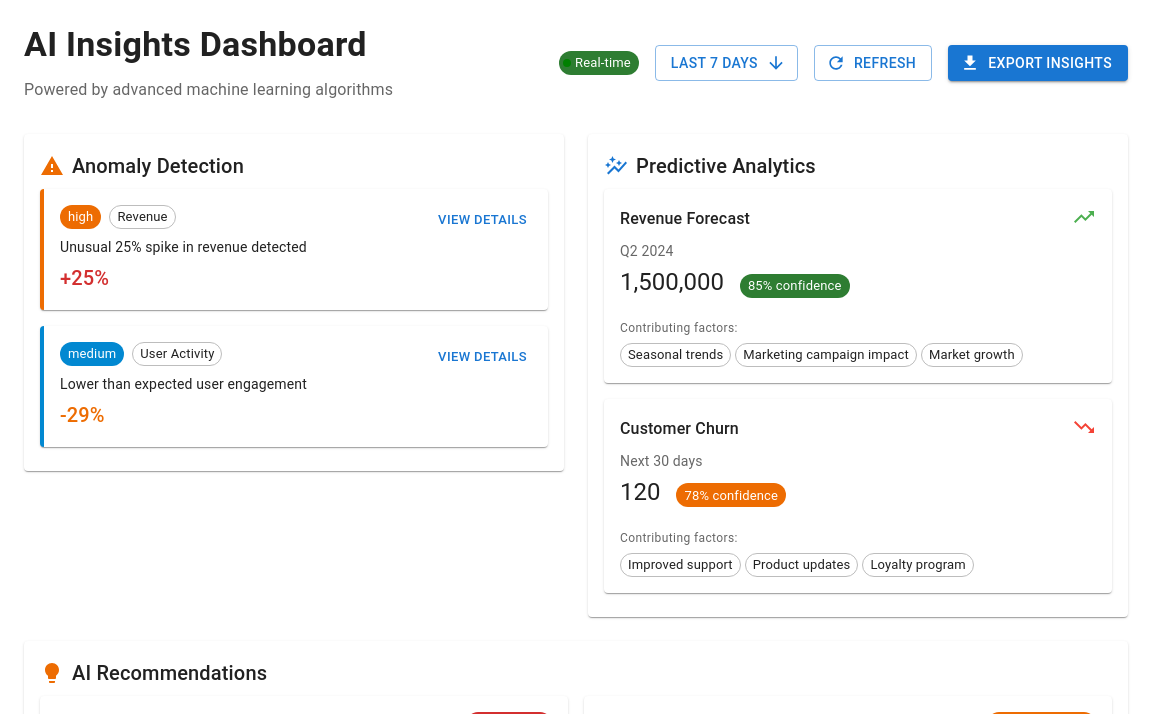
AIInsights Component › User Interactions › opens anomaly details when "View Details" is clicked
Click the 1st button "View Details" at (483, 220), box [433,205,532,236]
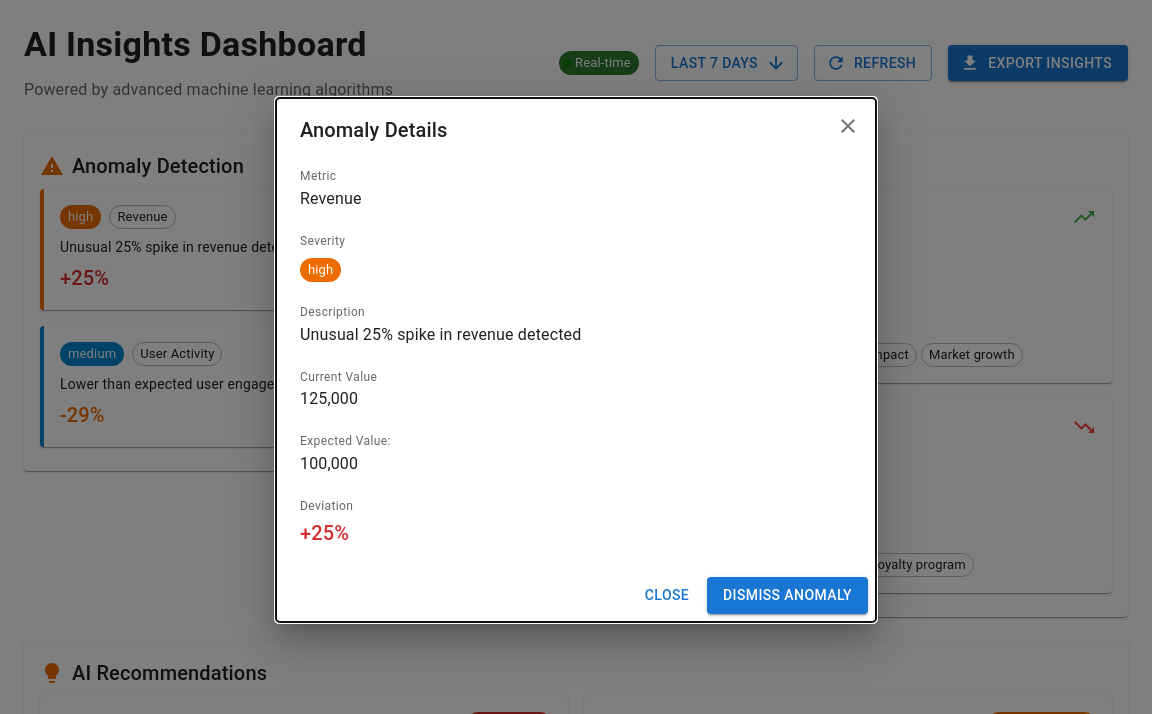
Result: the dialog is shown at [276,98,876,622]
Result: the text "Expected Value:" is shown at [300,434,391,448]
Result: the text "100,000" is shown at [300,454,358,473]
